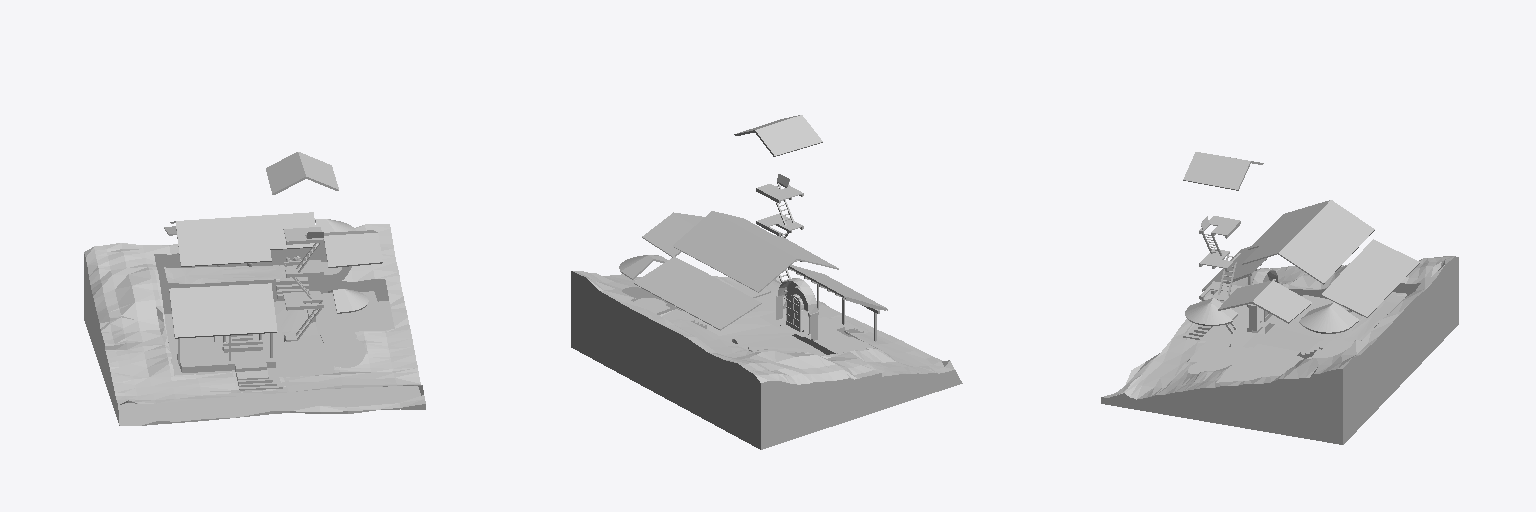
File: Pedret_XIII_2.obj
3 renders of one model, left to right at view 1: azimuth 30°, elevation 25°; view 2: azimuth 150°, elevation 25°; view 3: azimuth 270°, elevation 25°, orthographic.
Parts seen in each view (by area): view 1: PEDRET_XIII-baked-2; view 2: PEDRET_XIII-baked-2; view 3: PEDRET_XIII-baked-2.
Boxes of the visible parts, box(x1,y1,x2,y2) form: PEDRET_XIII-baked-2: box(84, 152, 425, 425); PEDRET_XIII-baked-2: box(571, 115, 962, 449); PEDRET_XIII-baked-2: box(1101, 152, 1458, 444).
Size of the model in its own units: 25.99 by 16.27 by 24.35.